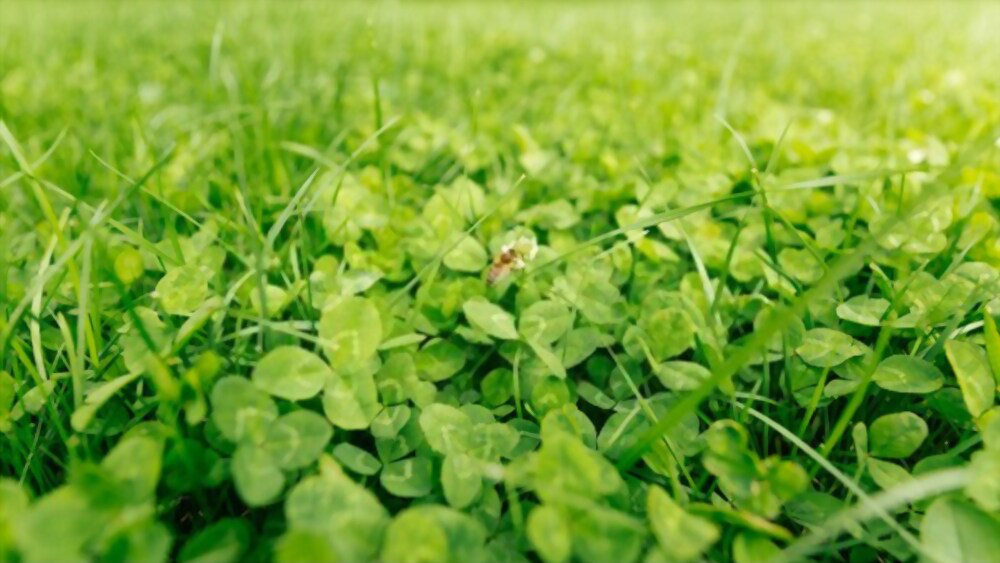clover: (197, 168, 941, 553)
